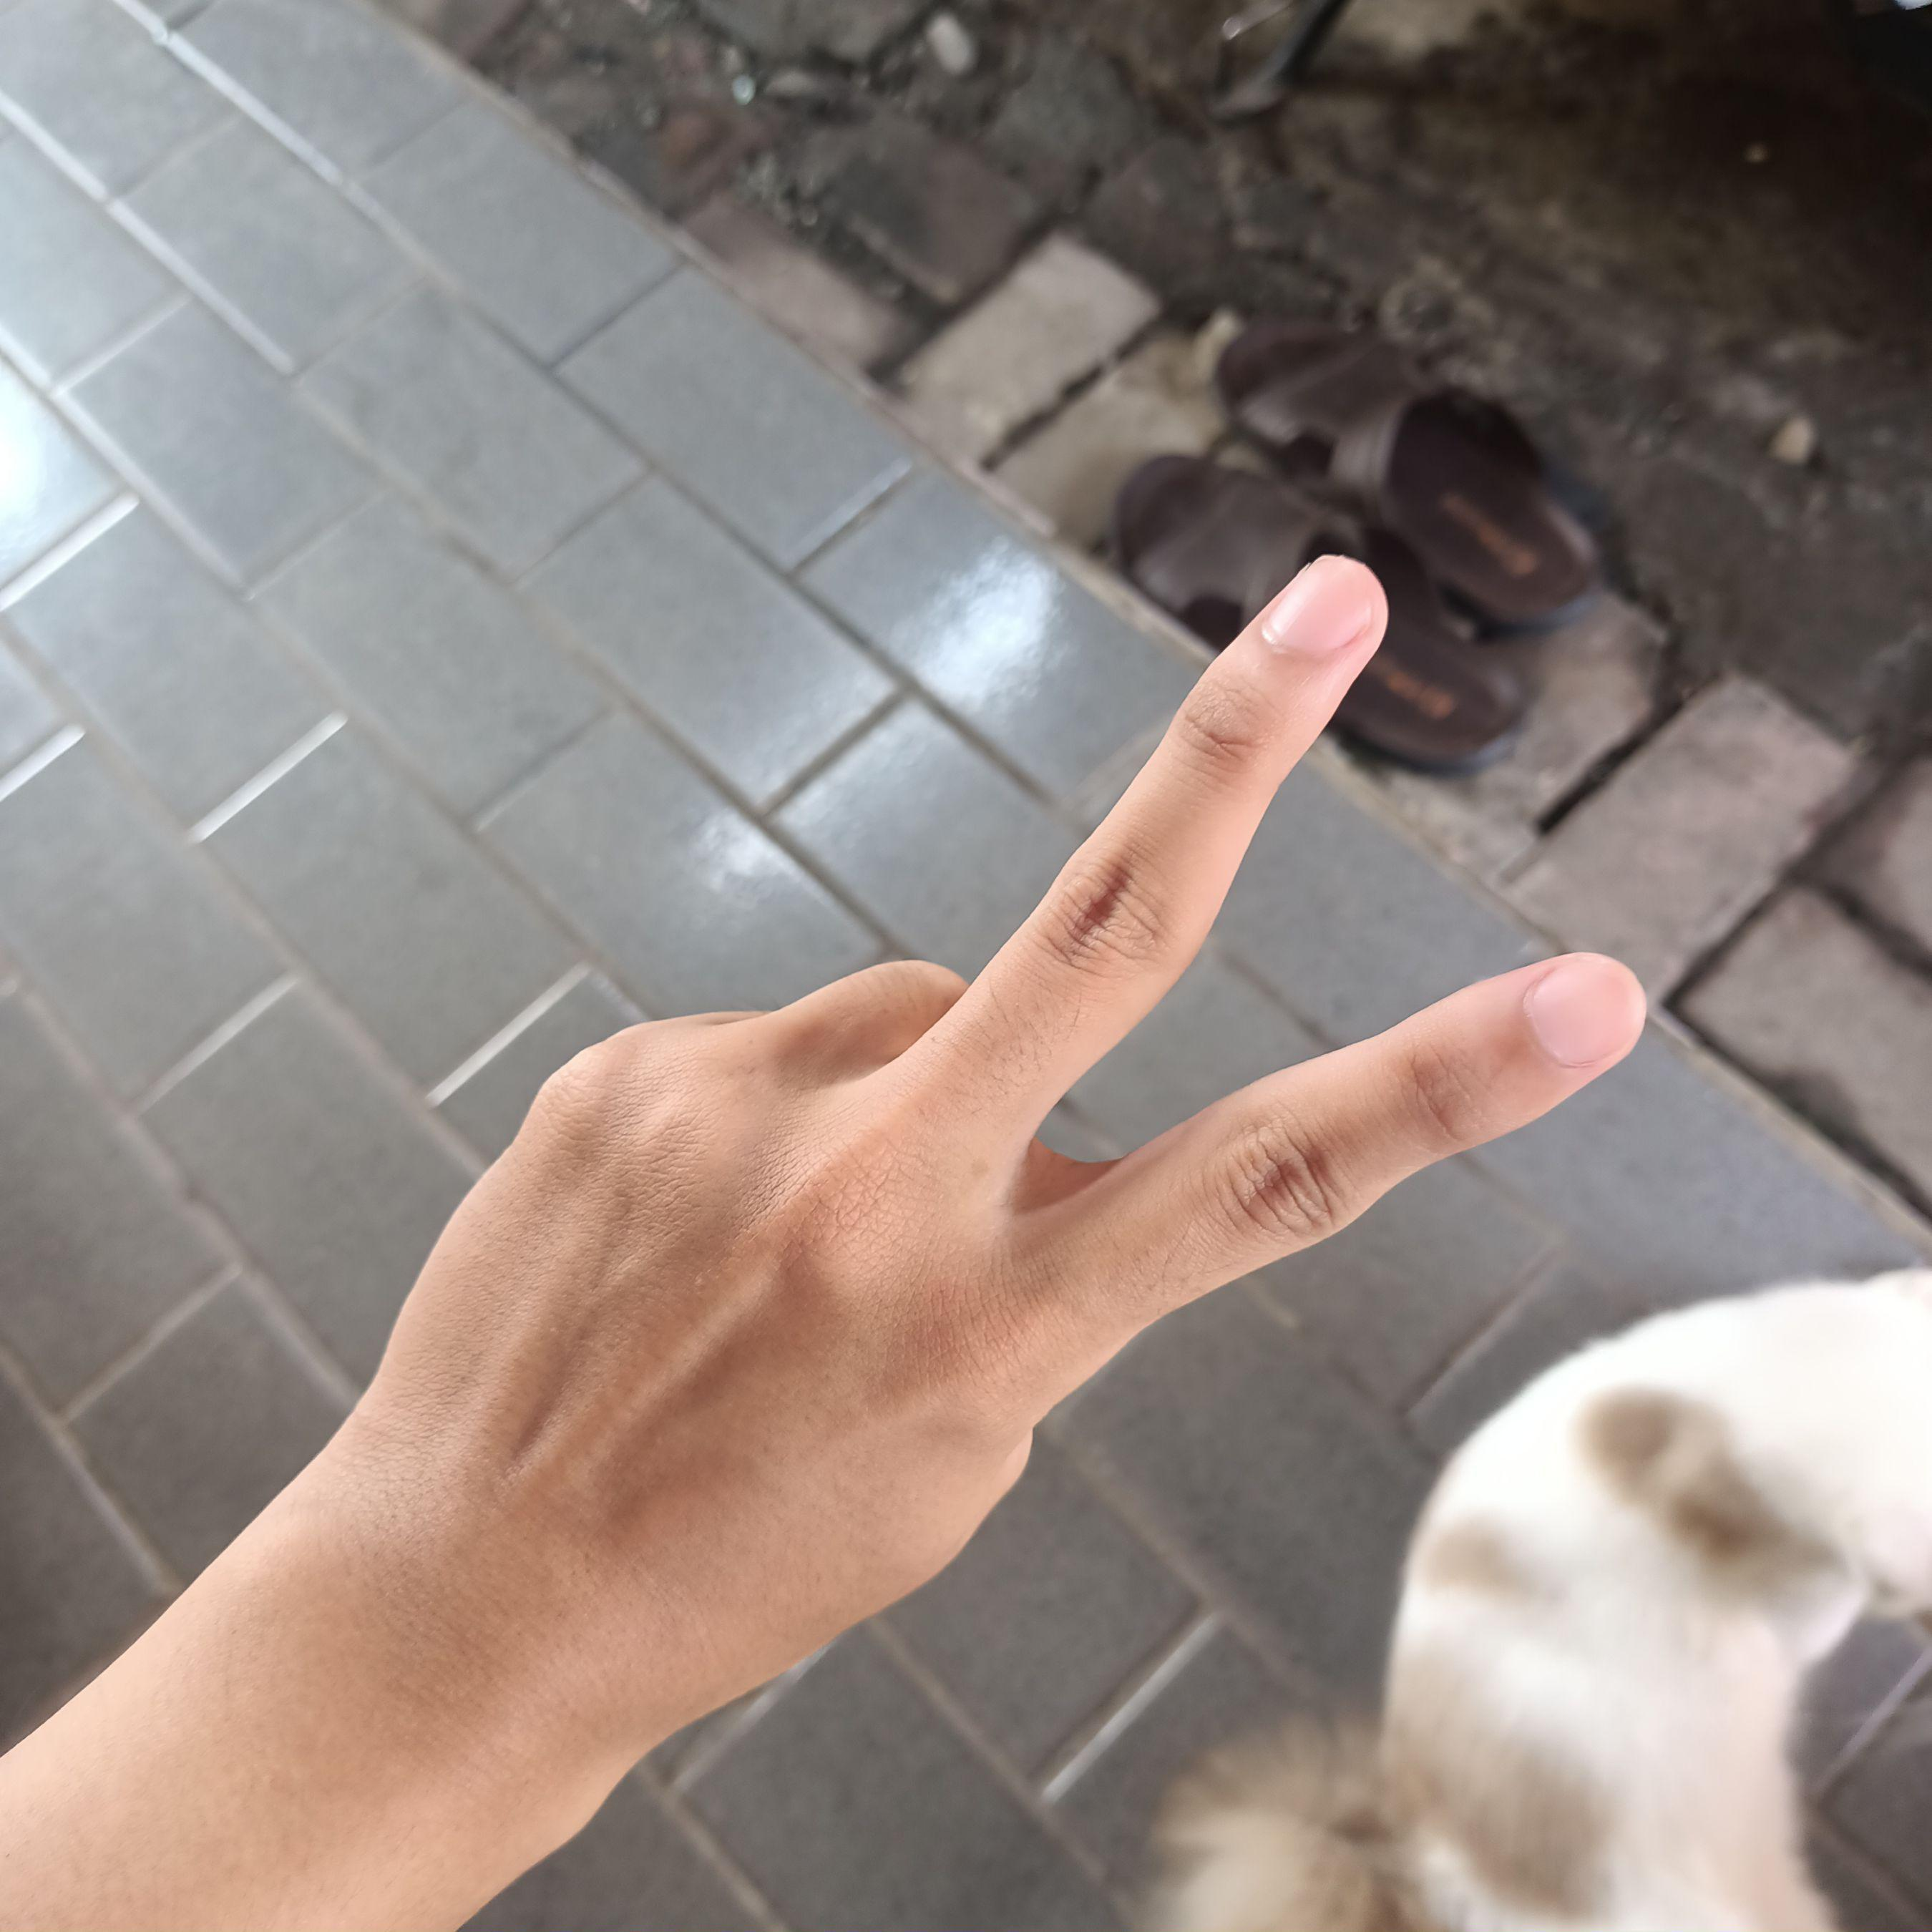scissors: (311, 543, 1660, 1787)
